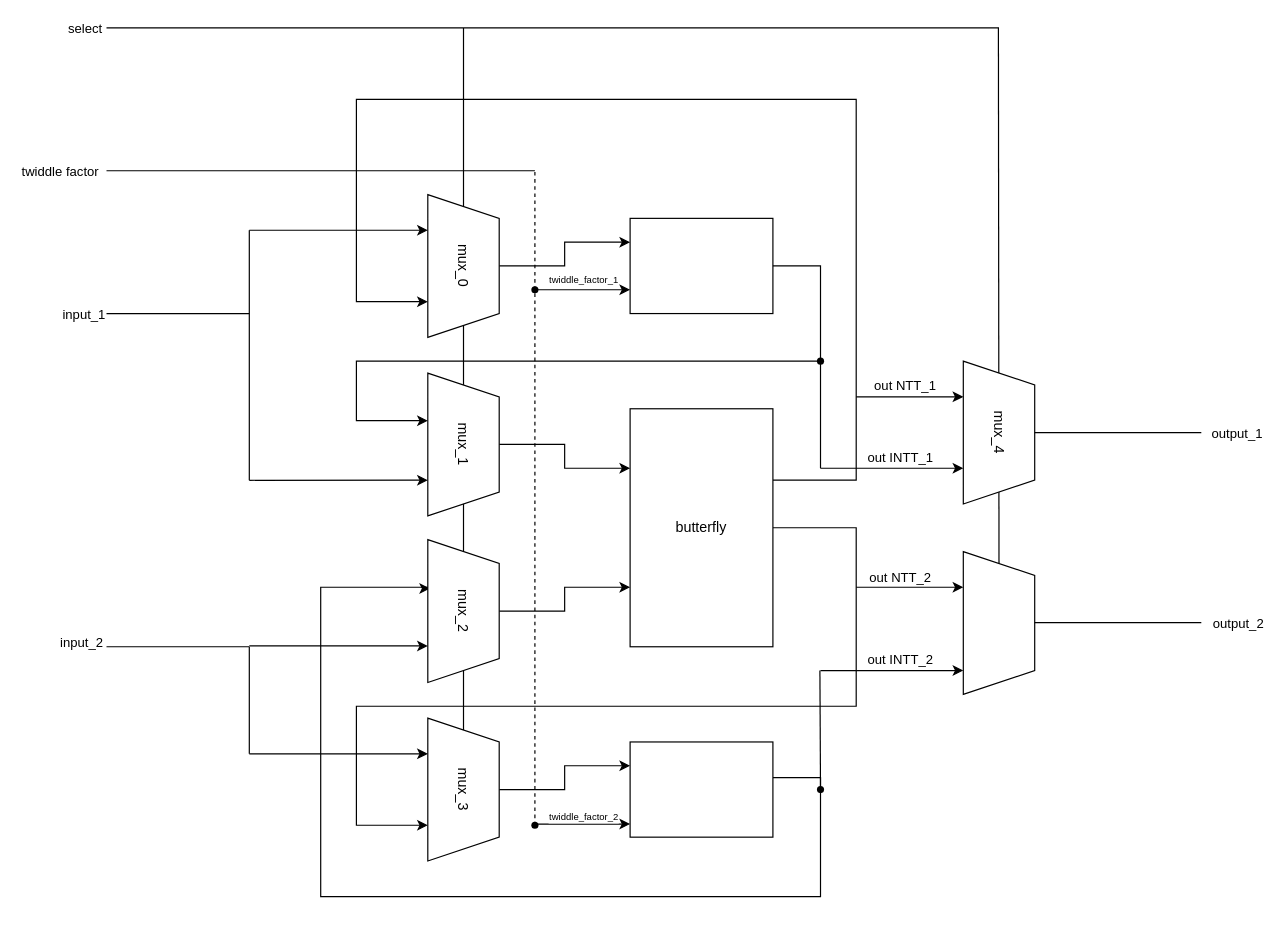
The diagram is 1283 pixels wide and 927 high, and some of its shapes have lost their labels. Here are the shapes that lost their labels. From the top down, the centre of each, then its label:
At pixel 701 265: "mult_0".
At pixel 998 622: "mux_5".
At pixel 701 789: "mult_1".
